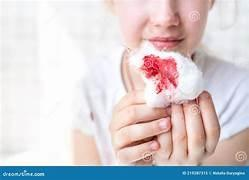cotton: (75, 48, 126, 164), (129, 41, 202, 107)
